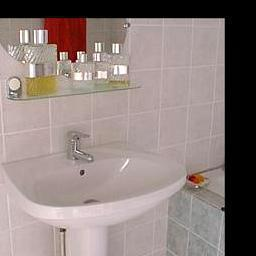Lavamanos: (0, 127, 186, 256)
